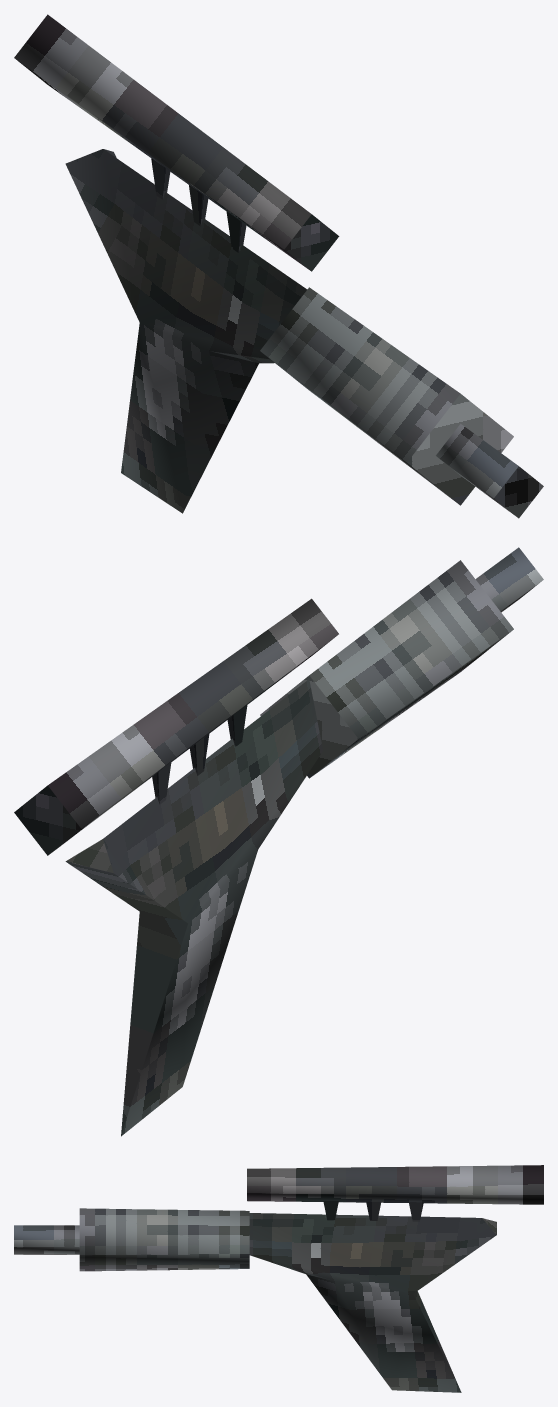
File: wp_pistol_deathhammer_combined_l2.fbx
3 renders of one model, top to bottom at view 1: azimuth 30°, elevation 25°; view 2: azimuth 150°, elevation 25°; view 3: azimuth 270°, elevation 25°, orthographic. The views are drawn at different scales.
Visible parts, largest first — view 1: mesh_node; view 2: mesh_node; view 3: mesh_node.
Part boxes in pixels (bbox=[...]): mesh_node: bbox=[14, 14, 543, 518]; mesh_node: bbox=[14, 547, 543, 1136]; mesh_node: bbox=[14, 1165, 543, 1392].
Size of the model in its own units: 0.0508 by 0.1832 by 0.3864.
